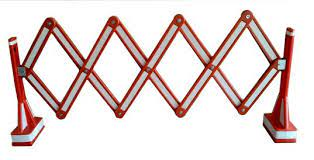obstacle: (2, 13, 305, 153)
